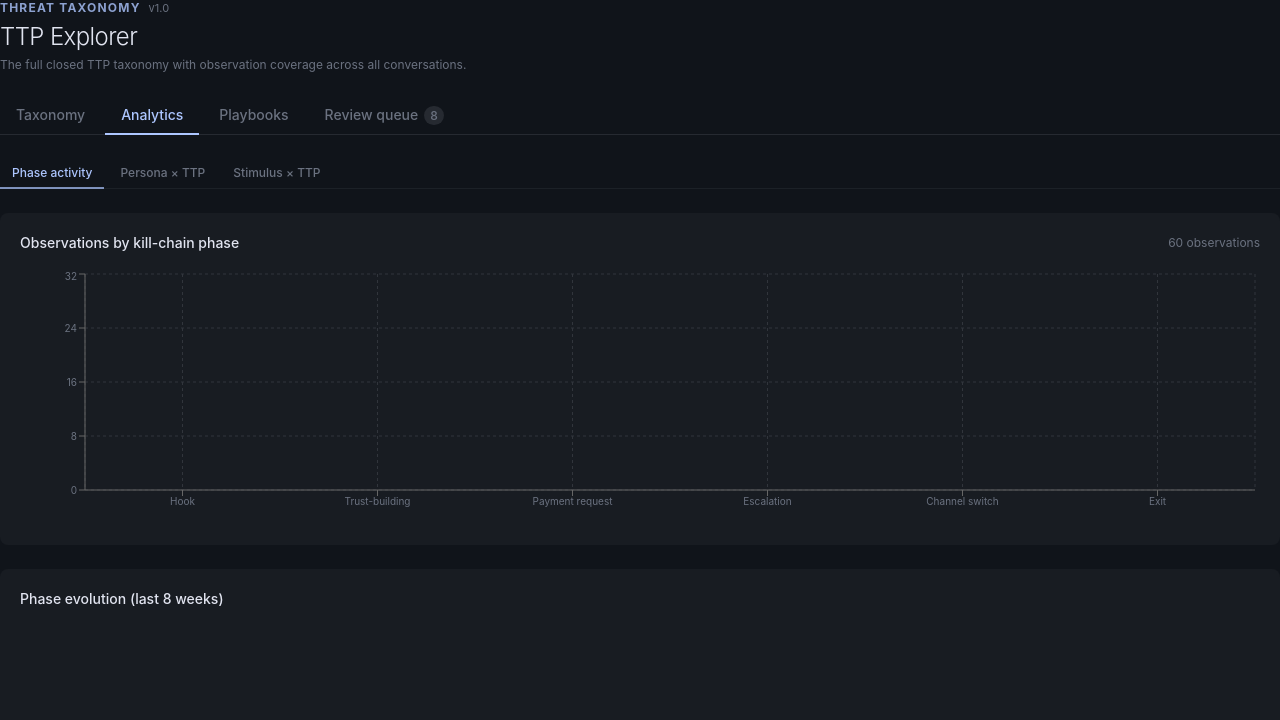
Test: TtpExplorer — coverage gaps › mounts the persona and stimulus matrices in their analytics sub-tabs
The width and height of the screenshot is (1280, 720).
Expected: the heading "Observations by kill-chain phase" is shown, [20,232,239,252]
Note: Persona sub-tab.
Click the button with test id "ttp-subtab-persona": {"x": 163, "y": 174} [108,158,217,188]
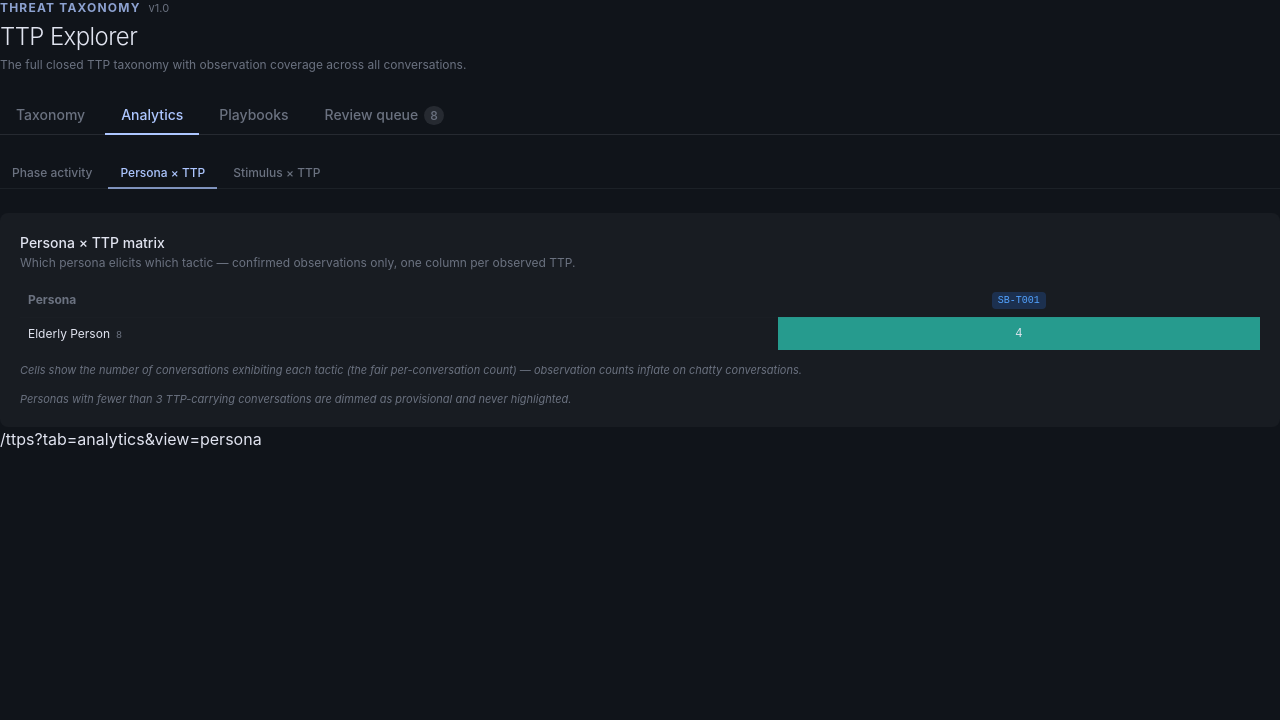
Now the table with test id "persona-ttp-matrix-table" is shown, box [20,282,1260,350]
Now the text "Elderly Person" is shown, box [28,326,110,341]
Now the text with test id "location-probe" reads "/ttps?tab=analytics&view=persona", box [0,429,262,449]
Note: Stimulus sub-tab.
Click the button with test id "ttp-subtab-stimulus": {"x": 277, "y": 174} [221,158,332,188]
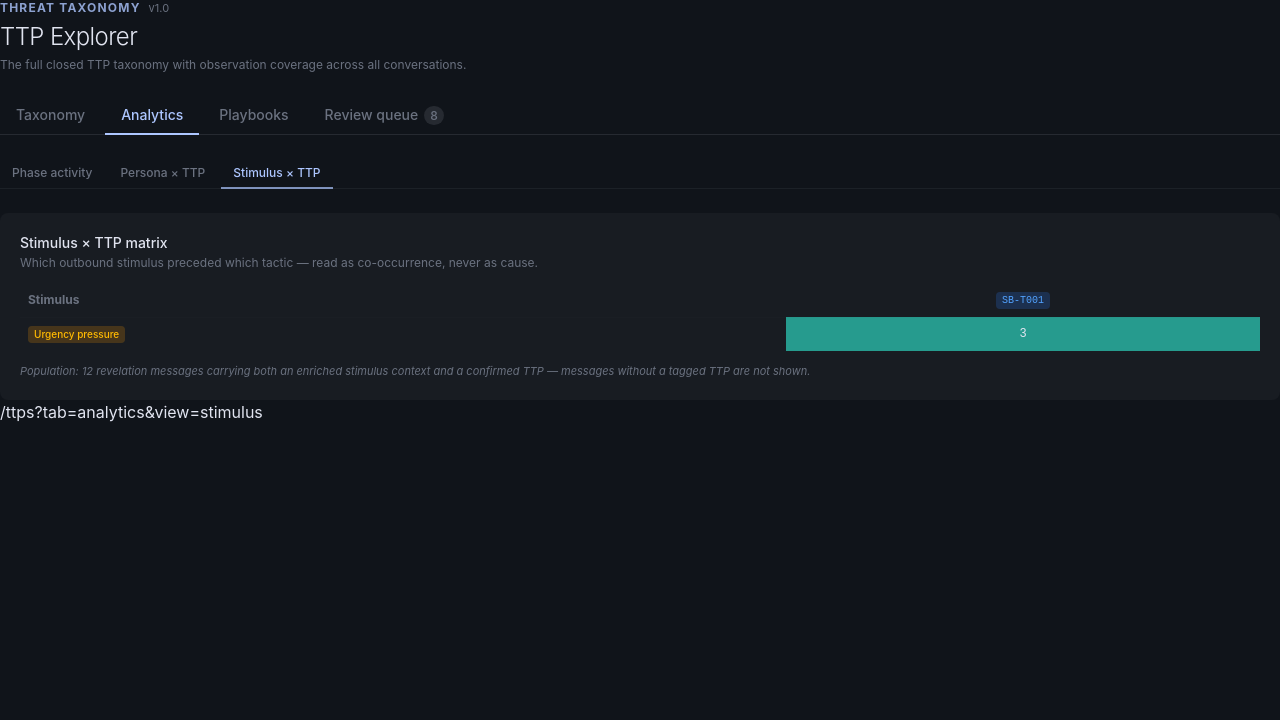
Now the table with test id "stimulus-ttp-matrix-table" is shown, box [20,282,1260,351]
Now the text with test id "stimulus-ttp-matrix-population" shows "12", box [20,364,810,378]
Now the text with test id "location-probe" reads "/ttps?tab=analytics&view=stimulus", box [0,402,263,422]
